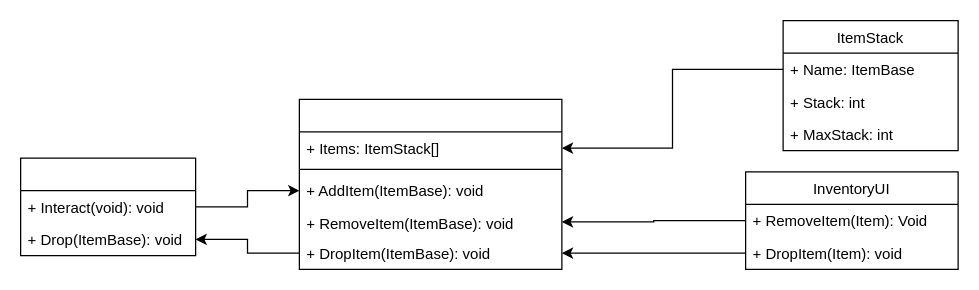
This 979x290 diagram has some shape labels left out. Here are the shapes that lost their labels. From the top down, the box of each, then its label:
(298, 98, 562, 269): InventorySystem
(19, 157, 196, 256): PlayerCharacter
